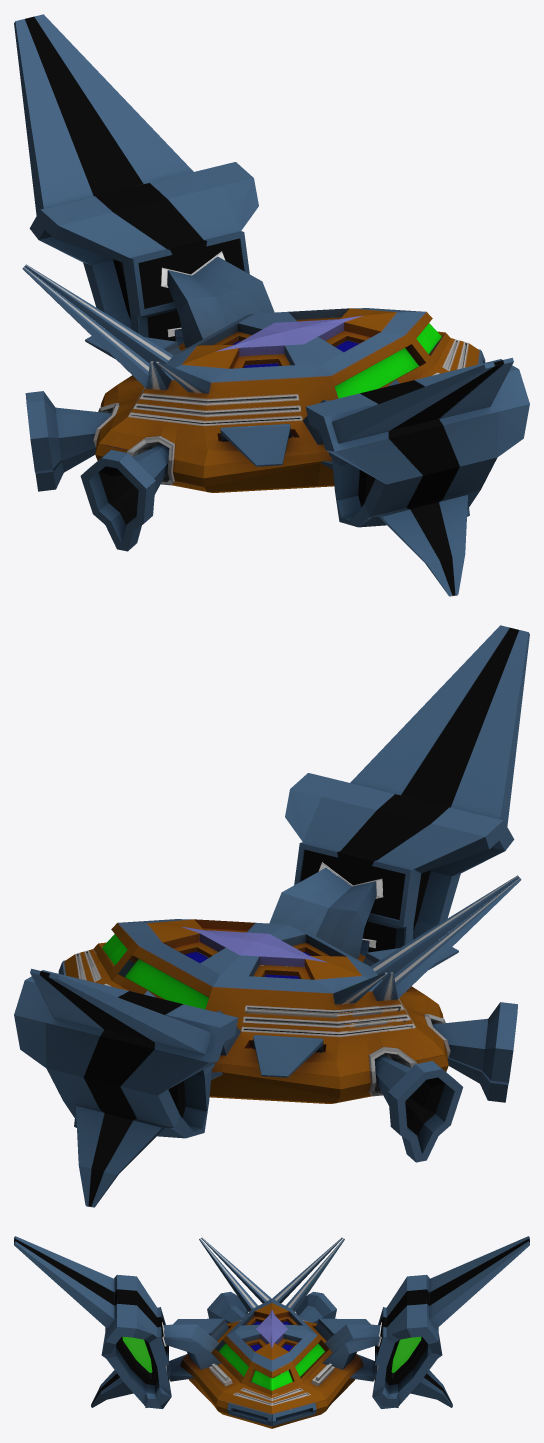
The model's file is NaveJpp.fbx.
3 views of the same model, one above another, from view 1: azimuth 30°, elevation 25°; view 2: azimuth 150°, elevation 25°; view 3: azimuth 270°, elevation 25° (orthographic). The views are drawn at different scales.
Visible parts, largest first — view 1: Nave, Propulsor Dere, Propulsor Izq, Mini prop, Mini prop 2; view 2: Nave, Propulsor Izq, Propulsor Dere, Mini prop 2, Mini prop; view 3: Nave, Propulsor Dere, Propulsor Izq, Mini prop 2, Mini prop.
Boxes of the visible parts, <box> form: Nave: <box>22,251,485,492</box>; Propulsor Dere: <box>14,14,258,341</box>; Propulsor Izq: <box>305,357,529,596</box>; Mini prop: <box>80,444,169,551</box>; Mini prop 2: <box>25,391,111,491</box>; Nave: <box>58,862,521,1103</box>; Propulsor Izq: <box>285,625,529,952</box>; Propulsor Dere: <box>14,968,238,1207</box>; Mini prop 2: <box>374,1055,463,1162</box>; Mini prop: <box>432,1002,517,1102</box>; Nave: <box>162,1237,381,1428</box>; Propulsor Dere: <box>372,1236,529,1408</box>; Propulsor Izq: <box>14,1236,171,1408</box>; Mini prop 2: <box>296,1291,336,1323</box>; Mini prop: <box>207,1291,247,1323</box>.
Bounding box in the file's own units: 1048 × 684 × 1994.
